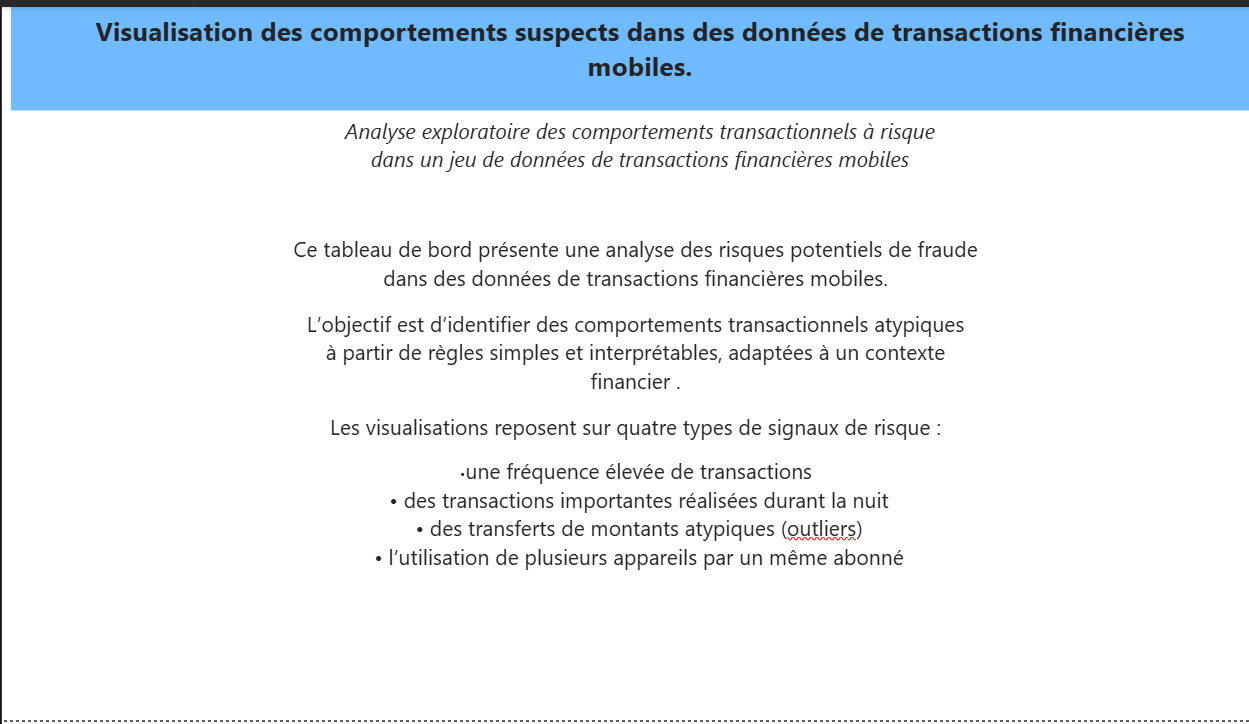

This screenshot's page, from the dashboard's own definition file:
{"tool":"powerbi","page":{"name":"Contexte et Objectifs","canvas":[1280,720],"ordinal":0},"visuals":[{"type":"textbox","box":[9.4,0,1269.9,126.6],"z":0},{"type":"textbox","box":[9.4,103.9,1269.9,90.7],"z":1000},{"type":"textbox","box":[9.5,224.2,1269.5,259],"z":2000},{"type":"textbox","box":[9.5,448.4,1267.9,164.2],"z":3000}]}

Visuals, with their boxes in screenshot pixels (x1, y1, x2, y2), scaled from the page's 1280x720 canvas onto the 1249x724 screenshot:
textbox: select_region(9, 0, 1248, 127)
textbox: select_region(9, 104, 1248, 196)
textbox: select_region(9, 225, 1248, 486)
textbox: select_region(9, 451, 1246, 616)
